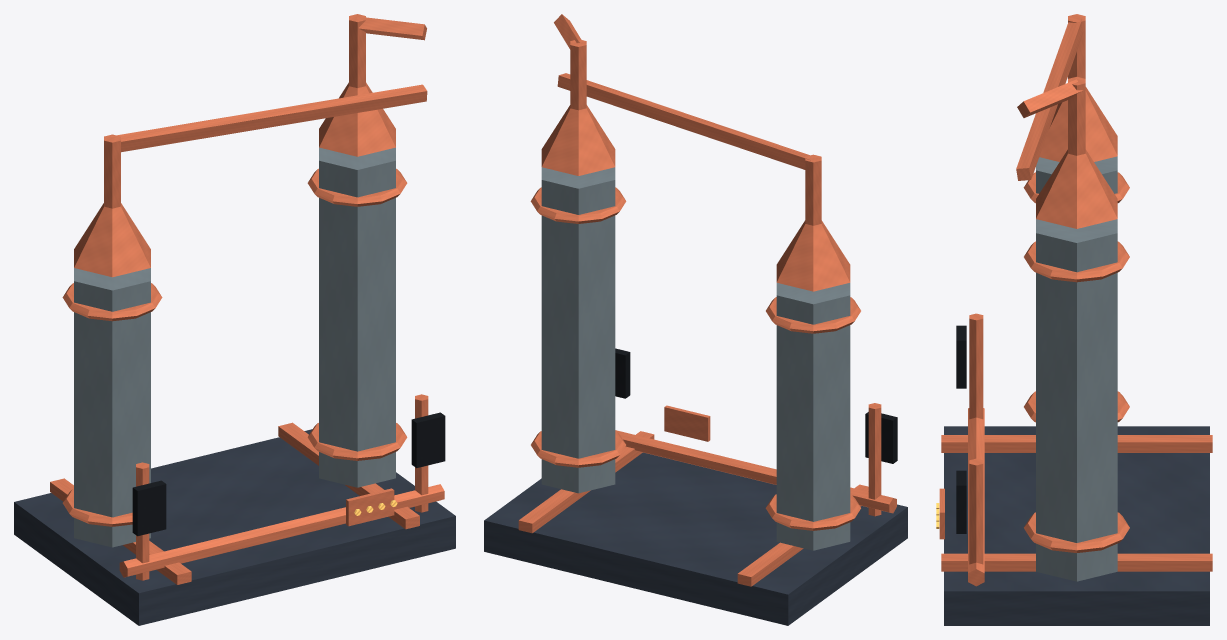
File: atlas100-s030-a02.glb
3 views of the same model, side by side, from view 1: azimuth 30°, elevation 25°; view 2: azimuth 150°, elevation 25°; view 3: azimuth 270°, elevation 25° (orthographic). The views are drawn at different scales.
Parts seen in each view (by area): view 1: atlas100-s030-a02:part-000, atlas100-s030-a02:part-010, atlas100-s030-a02:part-003, atlas100-s030-a02:part-009, atlas100-s030-a02:part-021, atlas100-s030-a02:part-007, atlas100-s030-a02:part-014, atlas100-s030-a02:part-018, atlas100-s030-a02:part-020, atlas100-s030-a02:part-002, atlas100-s030-a02:part-005, atlas100-s030-a02:part-012 (+9 smaller); view 2: atlas100-s030-a02:part-000, atlas100-s030-a02:part-010, atlas100-s030-a02:part-003, atlas100-s030-a02:part-009, atlas100-s030-a02:part-007, atlas100-s030-a02:part-014, atlas100-s030-a02:part-021, atlas100-s030-a02:part-002, atlas100-s030-a02:part-017, atlas100-s030-a02:part-001, atlas100-s030-a02:part-022, atlas100-s030-a02:part-012 (+7 smaller); view 3: atlas100-s030-a02:part-000, atlas100-s030-a02:part-010, atlas100-s030-a02:part-014, atlas100-s030-a02:part-002, atlas100-s030-a02:part-001, atlas100-s030-a02:part-007, atlas100-s030-a02:part-009, atlas100-s030-a02:part-019, atlas100-s030-a02:part-017, atlas100-s030-a02:part-021, atlas100-s030-a02:part-012, atlas100-s030-a02:part-011 (+8 smaller).
Part boxes in pixels (x1=…): atlas100-s030-a02:part-000: x1=14, y1=429, x2=455, y2=625; atlas100-s030-a02:part-010: x1=319, y1=147, x2=395, y2=487; atlas100-s030-a02:part-003: x1=74, y1=268, x2=150, y2=547; atlas100-s030-a02:part-009: x1=111, y1=84, x2=427, y2=152; atlas100-s030-a02:part-021: x1=119, y1=484, x2=444, y2=577; atlas100-s030-a02:part-007: x1=74, y1=203, x2=150, y2=277; atlas100-s030-a02:part-014: x1=319, y1=82, x2=395, y2=156; atlas100-s030-a02:part-018: x1=132, y1=480, x2=166, y2=536; atlas100-s030-a02:part-020: x1=411, y1=412, x2=445, y2=468; atlas100-s030-a02:part-002: x1=278, y1=422, x2=419, y2=529; atlas100-s030-a02:part-005: x1=62, y1=283, x2=162, y2=321; atlas100-s030-a02:part-012: x1=307, y1=168, x2=407, y2=206; atlas100-s030-a02:part-000: x1=484, y1=452, x2=907, y2=625; atlas100-s030-a02:part-010: x1=541, y1=167, x2=615, y2=493; atlas100-s030-a02:part-003: x1=776, y1=283, x2=850, y2=550; atlas100-s030-a02:part-009: x1=557, y1=73, x2=810, y2=169; atlas100-s030-a02:part-007: x1=776, y1=220, x2=850, y2=291; atlas100-s030-a02:part-014: x1=541, y1=105, x2=615, y2=175; atlas100-s030-a02:part-021: x1=615, y1=430, x2=896, y2=513; atlas100-s030-a02:part-002: x1=518, y1=431, x2=654, y2=533; atlas100-s030-a02:part-017: x1=868, y1=403, x2=881, y2=516; atlas100-s030-a02:part-001: x1=737, y1=484, x2=868, y2=586; atlas100-s030-a02:part-022: x1=664, y1=405, x2=710, y2=441; atlas100-s030-a02:part-012: x1=530, y1=187, x2=626, y2=223; atlas100-s030-a02:part-000: x1=944, y1=426, x2=1209, y2=625; atlas100-s030-a02:part-010: x1=1036, y1=219, x2=1117, y2=581; atlas100-s030-a02:part-014: x1=1036, y1=149, x2=1117, y2=228; atlas100-s030-a02:part-002: x1=941, y1=553, x2=1212, y2=571; atlas100-s030-a02:part-001: x1=941, y1=435, x2=1212, y2=452; atlas100-s030-a02:part-007: x1=1039, y1=87, x2=1117, y2=161; atlas100-s030-a02:part-009: x1=1016, y1=18, x2=1083, y2=180; atlas100-s030-a02:part-019: x1=969, y1=458, x2=983, y2=564; atlas100-s030-a02:part-017: x1=969, y1=313, x2=983, y2=419; atlas100-s030-a02:part-021: x1=968, y1=408, x2=984, y2=586; atlas100-s030-a02:part-012: x1=1024, y1=241, x2=1129, y2=282; atlas100-s030-a02:part-011: x1=1024, y1=512, x2=1129, y2=552.
Bounding box in the file's own units: 2.8 × 3.94 × 1.87.
Materials: 5 (5 with a texture image).
